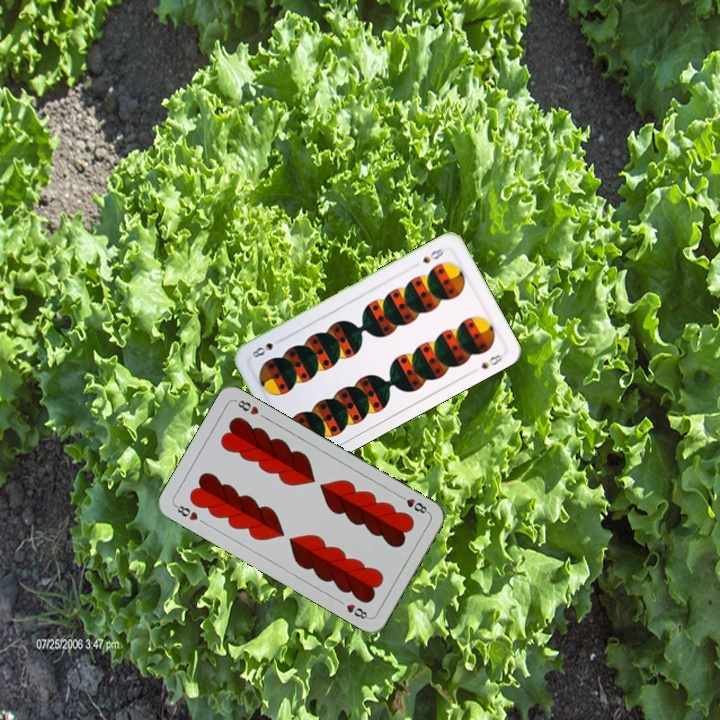H8: (394, 491, 432, 516), (171, 501, 201, 523)
S8: (419, 243, 448, 266)
